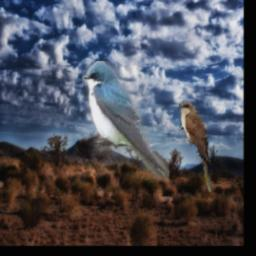Cuckoo: (179, 103, 212, 193)
Swallow: (82, 61, 169, 179)
